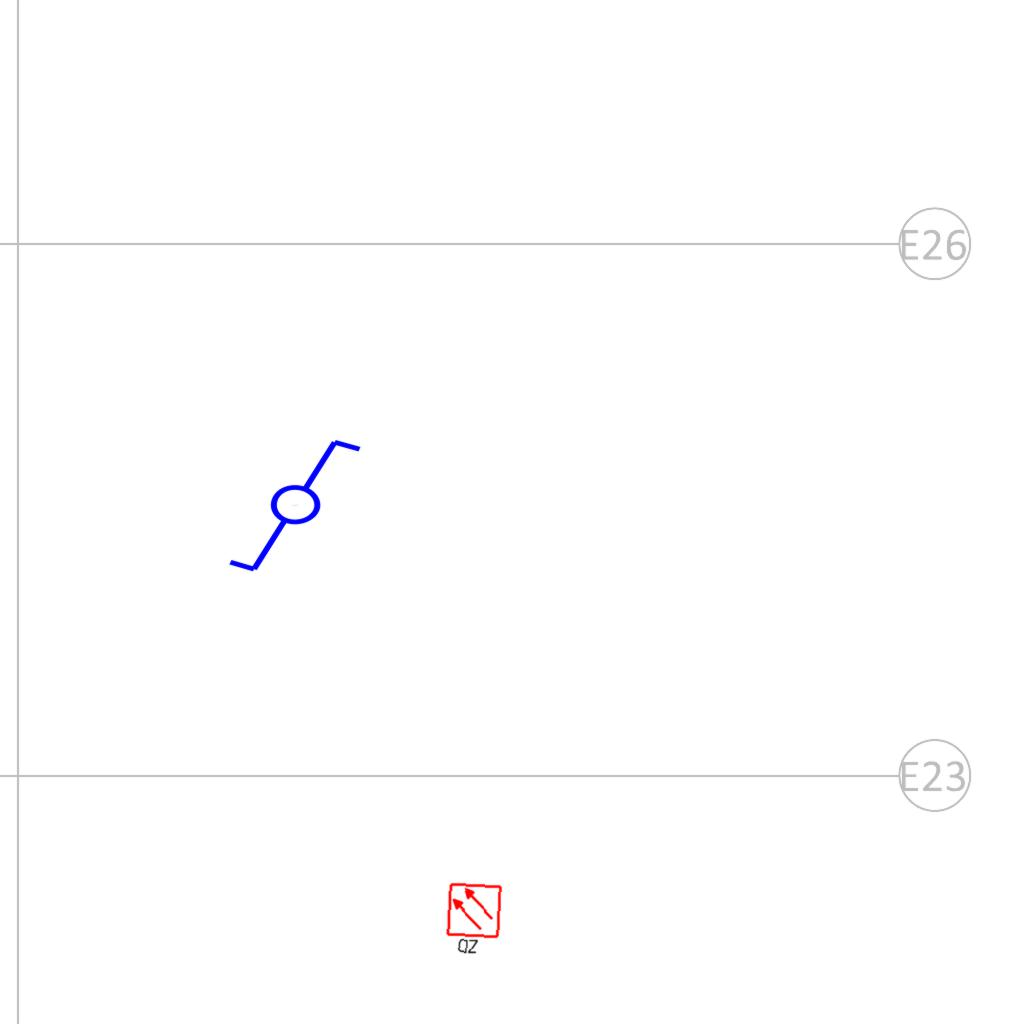Wechselschalter: (225, 435, 382, 579)
ZD_Melder_in_Zwischendecke_mit_Revisionsoeffnung_mind_40_x_40_cm: (444, 881, 505, 959)
